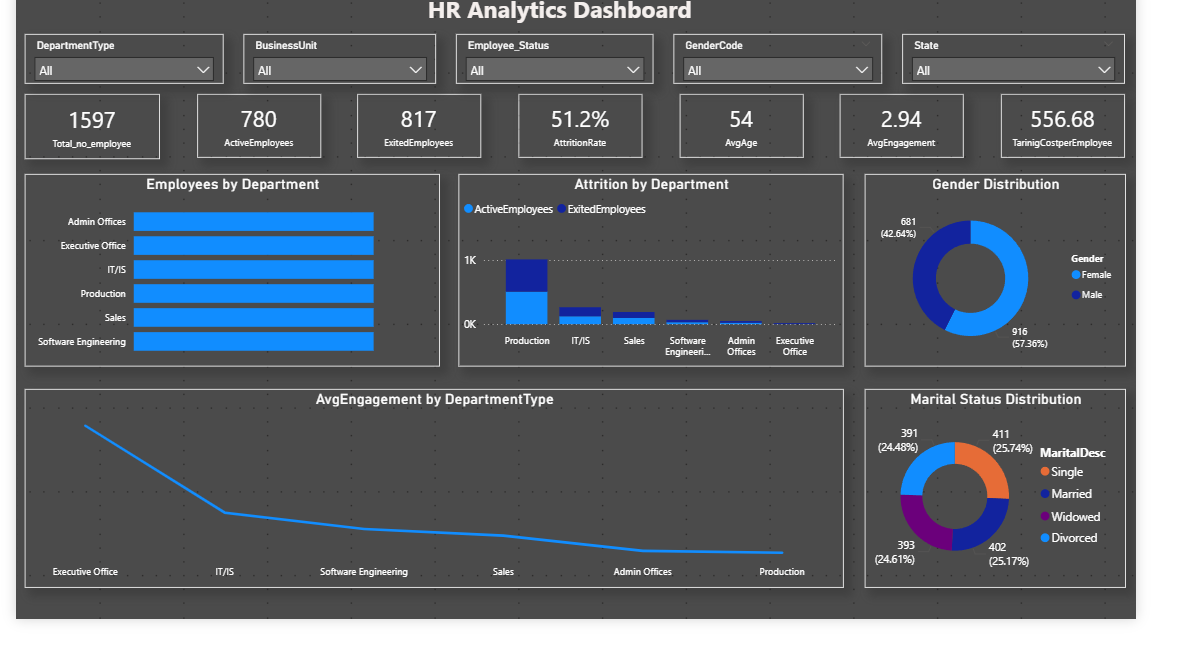

What the dashboard file says about the page in this screenshot:
{"tool":"powerbi","page":{"name":"Page 2","canvas":[1280,720],"ordinal":1},"visuals":[{"type":"card","fields":{"Values":["Key_measures.Total_no_employee"]},"box":[10,120,154.3,74.3],"z":0},{"type":"card","fields":{"Values":["Key_measures.ActiveEmployees"]},"box":[206.7,120.7,141.4,72.9],"z":1000},{"type":"card","fields":{"Values":["Key_measures.ExitedEmployees"]},"box":[390.5,120.7,141.4,72.9],"z":2000},{"type":"card","fields":{"Values":["Key_measures.AttritionRate"]},"box":[574.3,120.7,141.4,72.9],"z":3000},{"type":"card","fields":{"Values":["Key_measures.AvgAge"]},"box":[758.1,120.7,141.4,72.9],"z":4000},{"type":"card","fields":{"Values":["Key_measures.AvgEngagement"]},"box":[941.9,120.7,141.4,72.9],"z":5000},{"type":"card","fields":{"Values":["Key_measures.TarinigCostperEmployee"]},"box":[1125.7,120.7,141.4,72.9],"z":6000},{"type":"clusteredBarChart","title":"Employees by Department","fields":{"Category":["HR_Dataset_Detailed.DepartmentType"],"Y":["CountNonNull(HR_Dataset_Detailed.Employee ID)"]},"box":[10,211.4,474.3,220],"z":7000},{"type":"columnChart","title":"Attrition by Department","fields":{"Category":["HR_Dataset_Detailed.DepartmentType"],"Y":["Key_measures.ActiveEmployees","Key_measures.ExitedEmployees"]},"box":[505.7,211.4,440,220],"z":8000},{"type":"donutChart","title":"Gender Distribution","fields":{"Category":["HR_Dataset_Detailed.GenderCode"],"Y":["CountNonNull(HR_Dataset_Detailed.Employee ID)"]},"box":[970,211.4,298.6,220],"z":9000},{"type":"barChart","fields":{"Category":["HR_Dataset_Detailed.DepartmentType"],"Y":["Key_measures.AvgEngagement"]},"box":[10,457.1,935.7,227.1],"z":10000},{"type":"donutChart","title":"Marital Status Distribution","fields":{"Category":["HR_Dataset_Detailed.MaritalDesc"],"Y":["CountNonNull(HR_Dataset_Detailed.Employee ID)"]},"box":[970,457.1,298.6,227.1],"z":11000},{"type":"textbox","box":[338.5,0,614.2,51.7],"z":12000},{"type":"slicer","fields":{"Values":["HR_Dataset_Detailed.DepartmentType"]},"box":[10,51.4,227.1,57.1],"z":13000},{"type":"slicer","fields":{"Values":["HR_Dataset_Detailed.BusinessUnit"]},"box":[260,51.4,220,57.1],"z":14000},{"type":"slicer","fields":{"Values":["HR_Dataset_Detailed.Employee_Status"]},"box":[502.9,51.4,225.7,57.1],"z":15000},{"type":"slicer","fields":{"Values":["HR_Dataset_Detailed.GenderCode"]},"box":[751.4,51.4,238.6,57.1],"z":16000},{"type":"slicer","fields":{"Values":["HR_Dataset_Detailed.State"]},"box":[1012.9,51.4,254.3,57.1],"z":17000},{"type":"shape","box":[10,684.4,1258.9,35.6],"z":18000}]}

Visuals, with their boxes in screenshot pixels (x1, y1, x2, y2), scaled from the page's 1280x720 canvas onto the 1184x652 screenshot:
card - Key_measures.Total_no_employee: <bbox>9, 109, 152, 176</bbox>
card - Key_measures.ActiveEmployees: <bbox>191, 109, 322, 175</bbox>
card - Key_measures.ExitedEmployees: <bbox>361, 109, 492, 175</bbox>
card - Key_measures.AttritionRate: <bbox>531, 109, 662, 175</bbox>
card - Key_measures.AvgAge: <bbox>701, 109, 832, 175</bbox>
card - Key_measures.AvgEngagement: <bbox>871, 109, 1002, 175</bbox>
card - Key_measures.TarinigCostperEmployee: <bbox>1041, 109, 1172, 175</bbox>
"Employees by Department" clusteredBarChart: <bbox>9, 191, 448, 391</bbox>
"Attrition by Department" columnChart: <bbox>468, 191, 875, 391</bbox>
"Gender Distribution" donutChart: <bbox>897, 191, 1173, 391</bbox>
barChart - HR_Dataset_Detailed.DepartmentType x Key_measures.AvgEngagement: <bbox>9, 414, 875, 620</bbox>
"Marital Status Distribution" donutChart: <bbox>897, 414, 1173, 620</bbox>
textbox: <bbox>313, 0, 881, 47</bbox>
slicer - HR_Dataset_Detailed.DepartmentType: <bbox>9, 47, 219, 98</bbox>
slicer - HR_Dataset_Detailed.BusinessUnit: <bbox>240, 47, 444, 98</bbox>
slicer - HR_Dataset_Detailed.Employee_Status: <bbox>465, 47, 674, 98</bbox>
slicer - HR_Dataset_Detailed.GenderCode: <bbox>695, 47, 916, 98</bbox>
slicer - HR_Dataset_Detailed.State: <bbox>937, 47, 1172, 98</bbox>
shape: <bbox>9, 620, 1174, 651</bbox>
